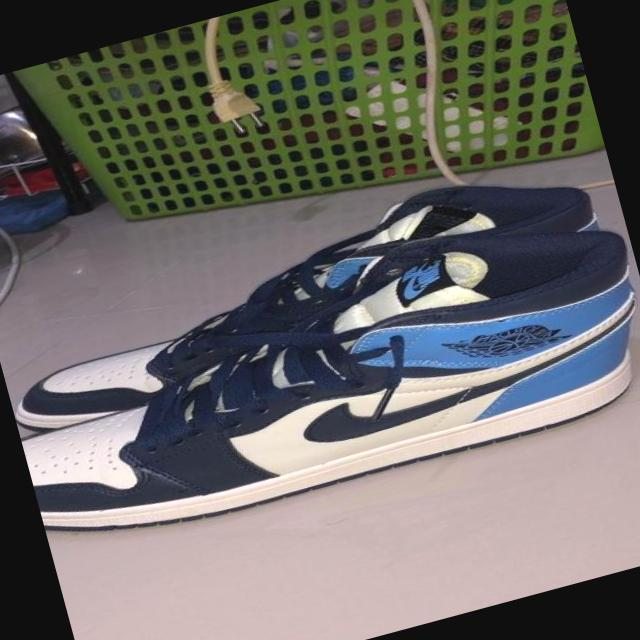nike_fake_jordan: (0, 186, 640, 563), (0, 142, 639, 441)
